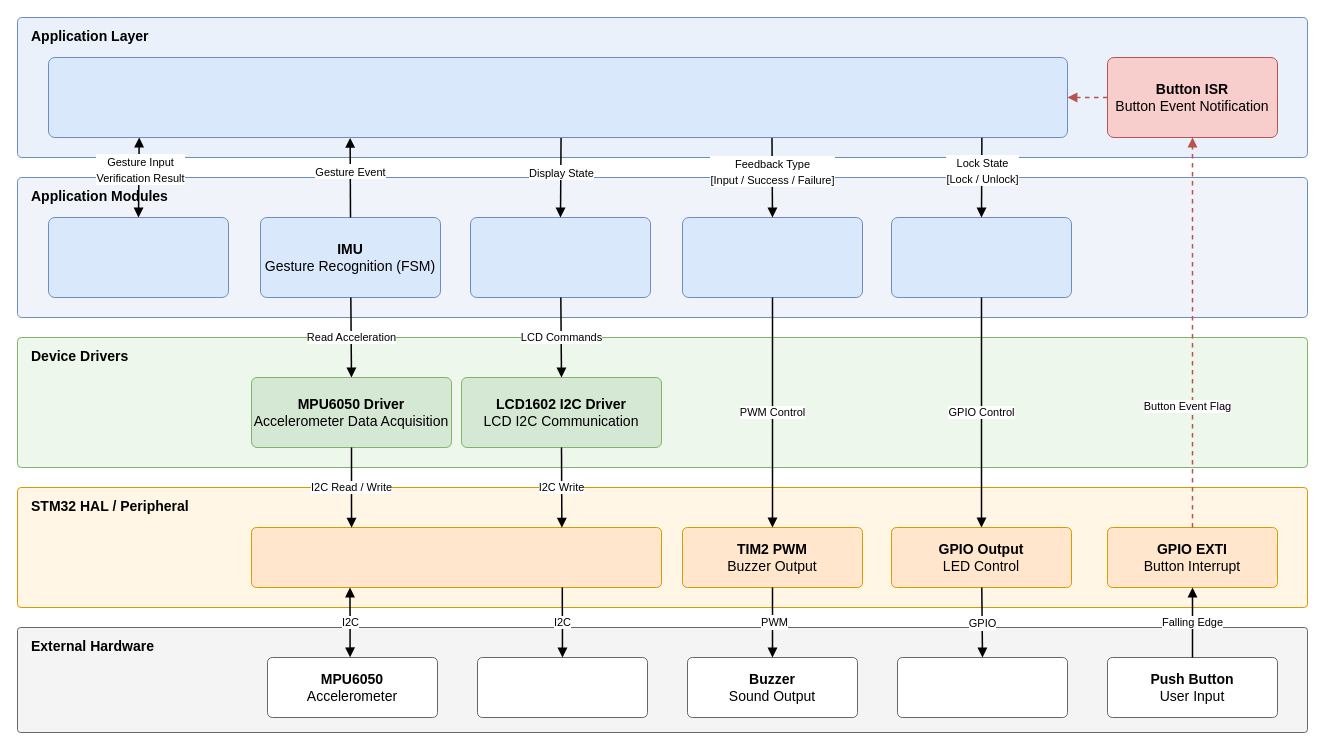
Some shapes in this 1325 by 750 pixel diagram are drawn without their labels. Here are the shapes that lost their labels. From the top down, the centre of each, then its label:
At [558,97]: "Main Control System State & Event Handling".
At [138,257]: "Password Password Storage & Verification".
At [560,257]: "LockDisp LCD UI & Feedback".
At [772,257]: "Buzzer Sound Feedback Control".
At [981,257]: "LED Lock Status Indication".
At [456,557]: "I2C1 MPU6050 / LCD".
At [562,687]: "LCD 1602 I2C Display".
At [982,687]: "RGB LED Lock Status Indicator".
